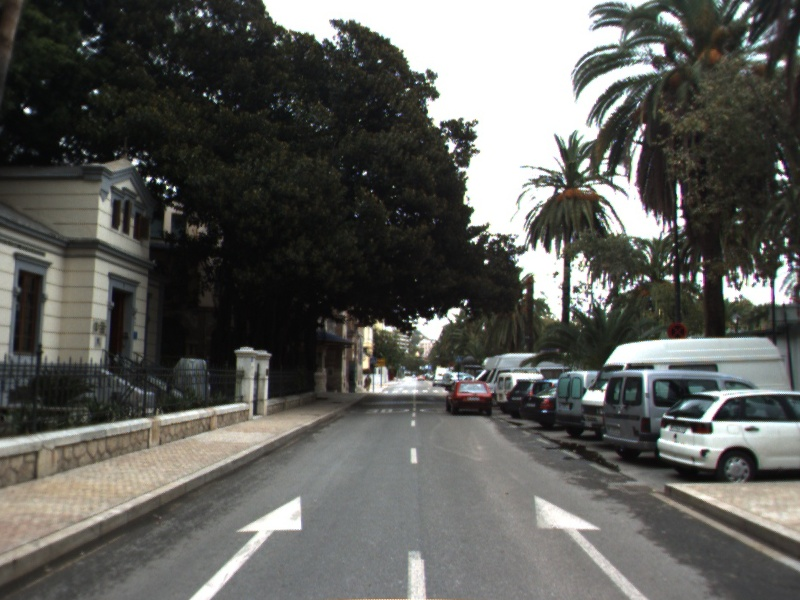STRAIGHT: (532, 492, 654, 600), (185, 491, 305, 600)
